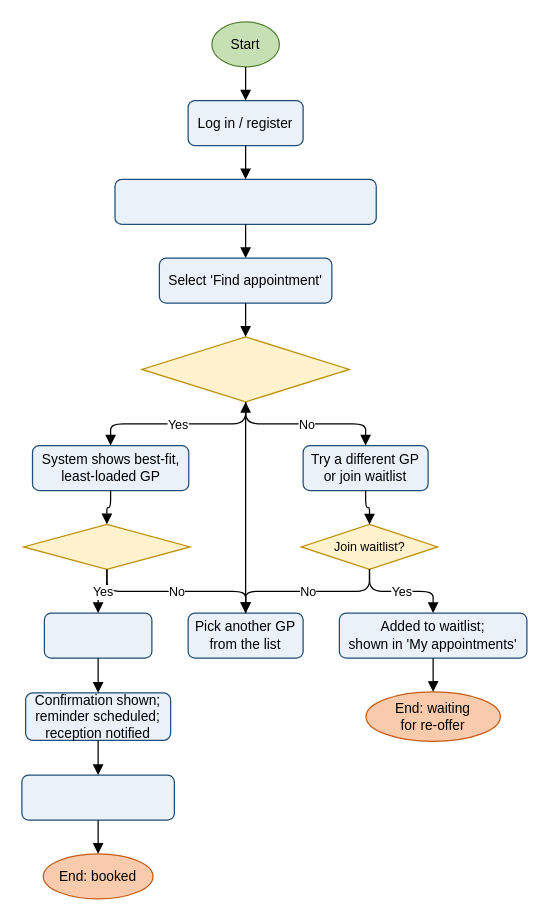
Some shapes in this 549 by 921 pixel diagram are drawn without their labels. The shapes that lost their labels are listed below. From the top down, each one's box as (x1, y1, x2, y2) in pixels, then its label:
(114, 178, 376, 224): Choose reason, preferred date and time
(141, 336, 349, 402): Free slot for a matching GP?
(22, 523, 190, 569): Accept this GP?
(43, 612, 152, 658): Accept & book
(21, 774, 174, 820): 'My appointments' list
